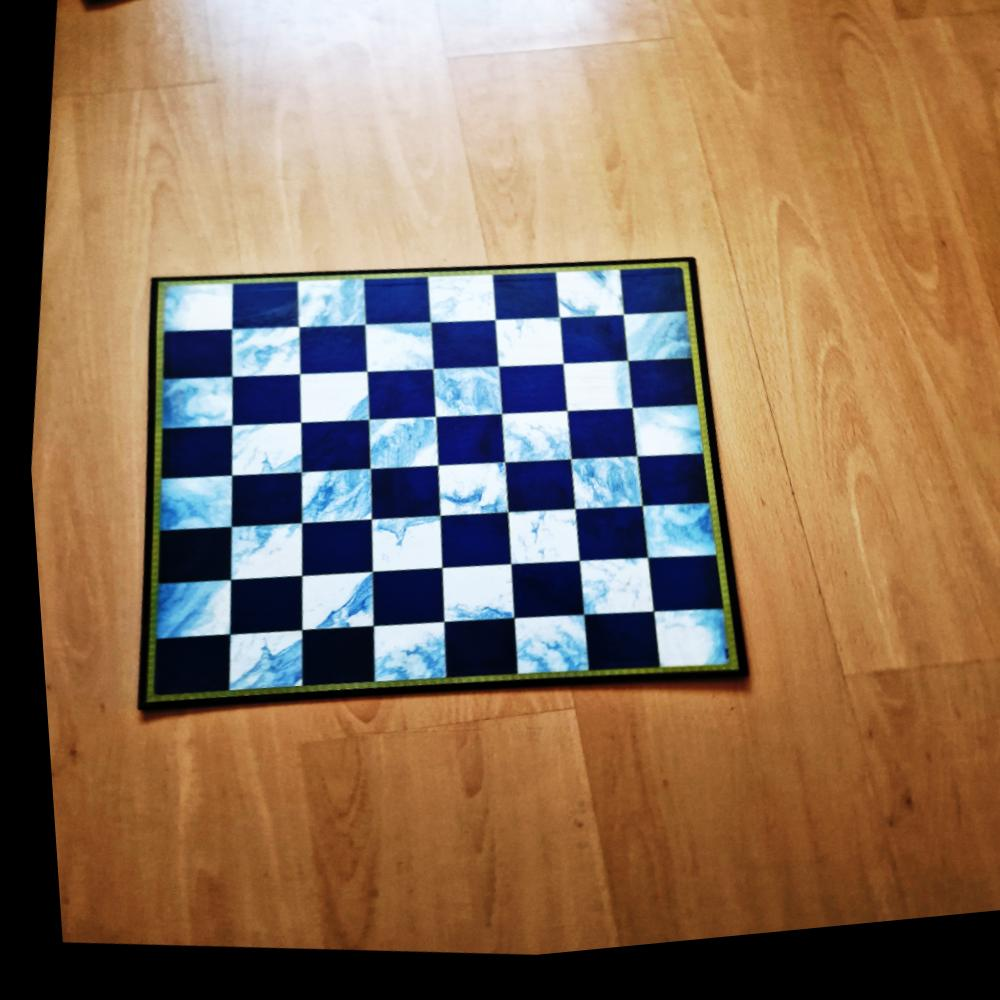chessfield: (138, 576, 229, 653), (636, 614, 724, 689), (285, 572, 371, 646), (214, 629, 301, 702), (357, 625, 442, 699), (495, 617, 580, 691), (557, 566, 642, 638), (488, 514, 573, 585), (139, 633, 225, 703), (424, 568, 506, 641), (216, 575, 299, 647), (492, 567, 577, 637), (217, 518, 299, 590), (427, 623, 510, 694), (289, 628, 373, 698), (144, 471, 229, 540), (567, 618, 652, 687), (627, 509, 710, 579), (146, 280, 234, 346), (353, 516, 434, 586), (219, 420, 301, 489), (485, 415, 568, 483), (360, 572, 441, 641), (144, 525, 227, 592), (149, 372, 232, 439), (287, 522, 368, 590), (291, 470, 372, 538), (615, 412, 696, 480), (285, 370, 367, 437), (426, 517, 506, 585), (634, 562, 714, 630), (217, 472, 299, 538), (359, 418, 439, 485), (555, 464, 634, 531), (349, 322, 430, 387), (219, 327, 298, 393), (559, 511, 638, 577), (424, 467, 503, 533), (353, 469, 432, 535), (148, 423, 229, 487), (620, 459, 699, 524), (286, 421, 366, 485), (420, 369, 500, 433), (220, 373, 298, 436), (552, 415, 630, 478), (546, 367, 624, 430), (544, 273, 622, 336), (153, 326, 232, 388), (478, 319, 555, 382), (491, 467, 569, 529), (608, 315, 684, 378), (357, 371, 434, 433), (288, 282, 364, 344), (547, 320, 624, 381), (419, 278, 496, 339), (221, 282, 299, 342), (425, 421, 501, 482), (486, 370, 563, 430), (288, 325, 363, 386), (610, 273, 685, 333), (614, 369, 690, 428), (419, 321, 495, 380), (351, 279, 427, 338), (484, 278, 558, 335)
